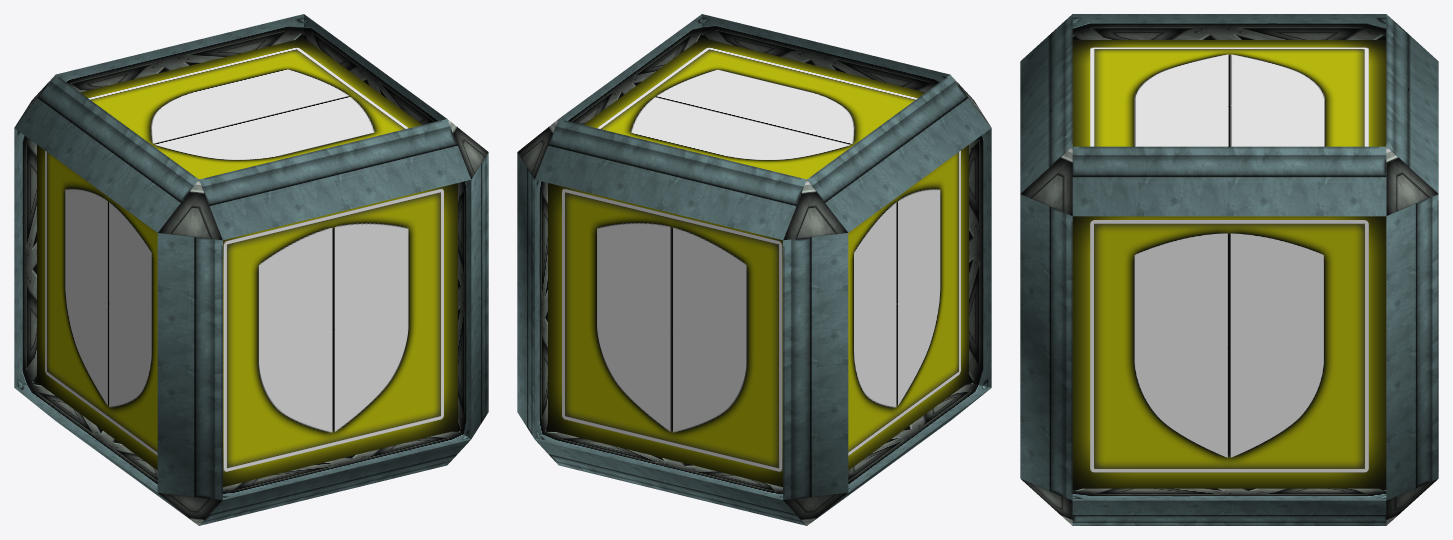
Rendered from apshld00.FBX.
The picture shows the model from 3 angles, left to right: view 1: azimuth 30°, elevation 25°; view 2: azimuth 150°, elevation 25°; view 3: azimuth 270°, elevation 25°; orthographic projection. The views are drawn at different scales.
Visible parts, largest first — view 1: apshld00__e; view 2: apshld00__e; view 3: apshld00__e.
Boxes of the visible parts, <box> form: apshld00__e: <box>14,14,488,525</box>; apshld00__e: <box>517,14,991,525</box>; apshld00__e: <box>1020,14,1438,525</box>.
Size of the model in its own units: 1.97 by 1.97 by 1.97.
